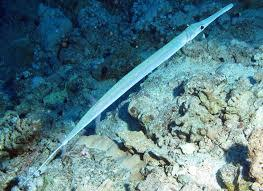Fistularia commersonii: (19, 0, 235, 177)
